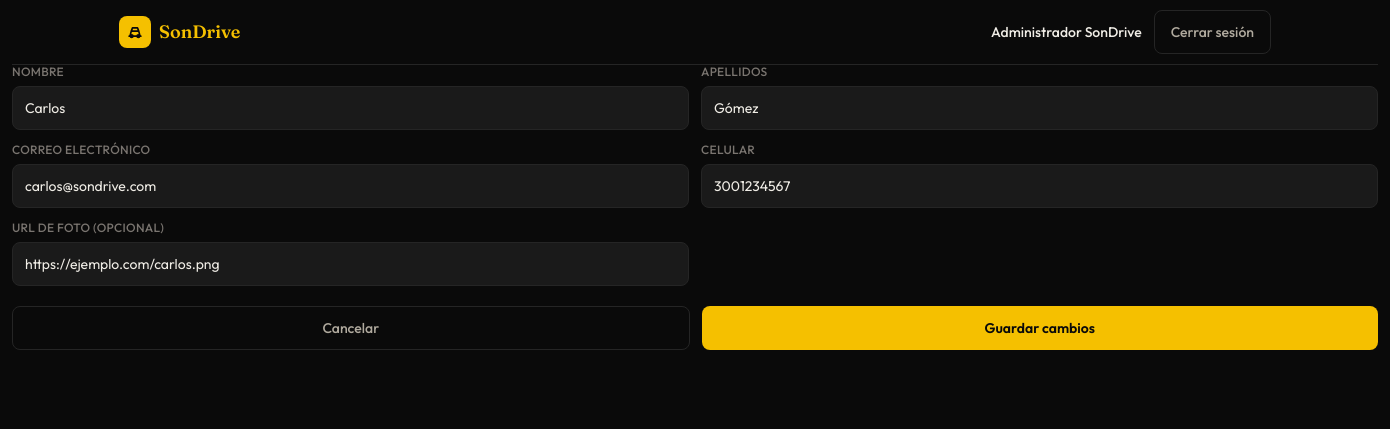
Test case: FormularioEditarConductor › muestra el aviso de conexión y permite reintentar
Replace the text in the field labelled "Nombre" with "Carla" at (350, 108), box [12,86,689,130]
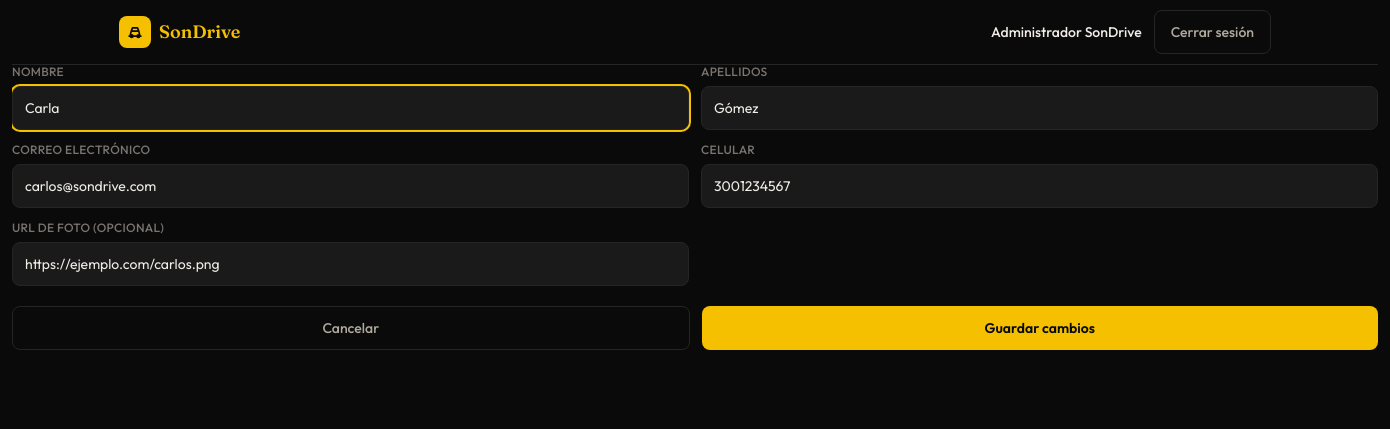
Click the button "Guardar cambios" at (1040, 328), box [702,306,1378,350]
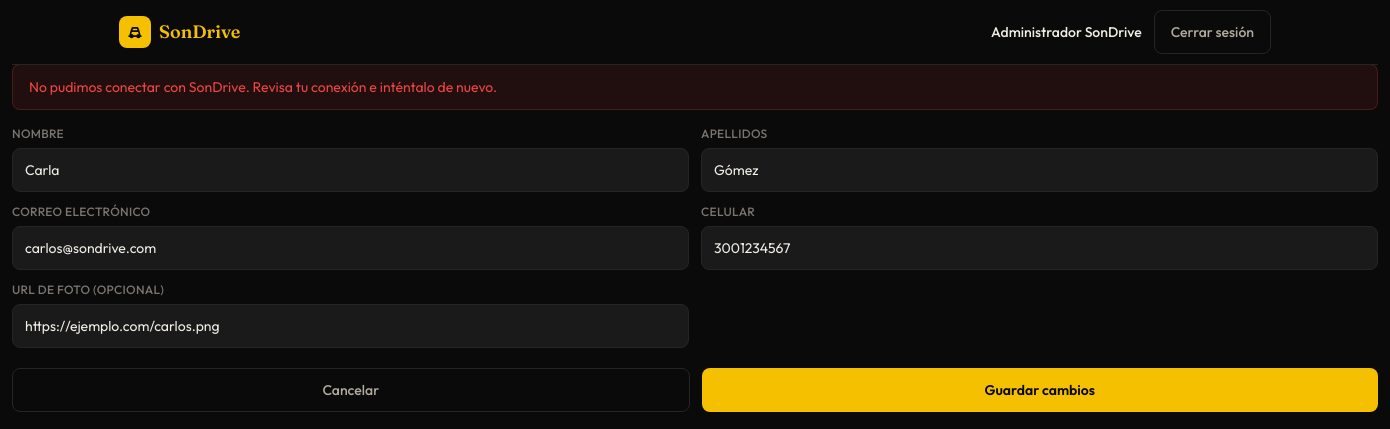
Now the text "No pudimos conectar con SonDrive. Revisa tu conexión e inténtalo de nuevo." is shown, box [29,77,497,97]
Click the button "Guardar cambios" at (1040, 390), box [702,368,1378,412]
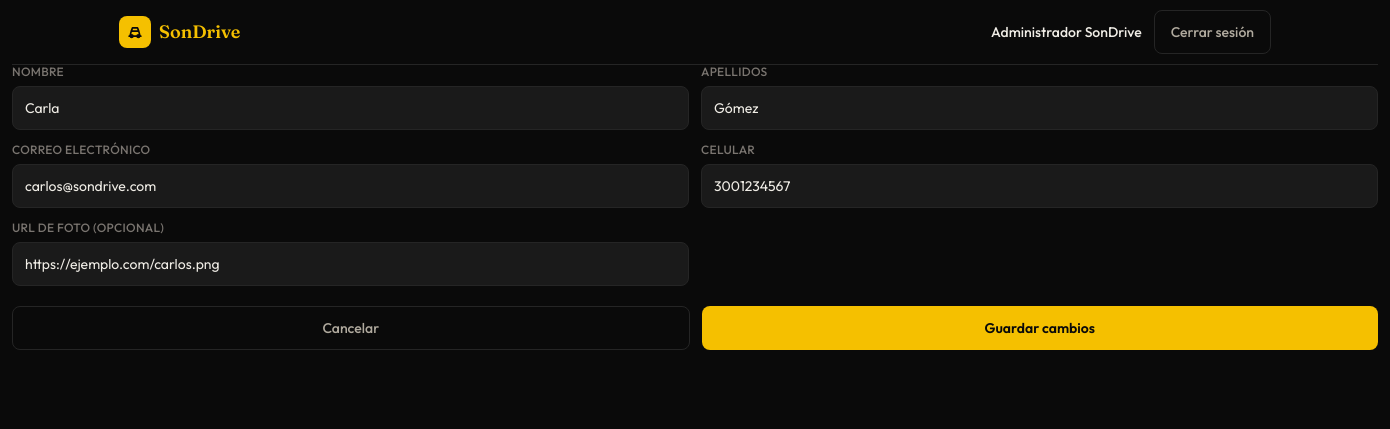
Now the text "No pudimos conectar con SonDrive. Revisa tu conexión e inténtalo de nuevo." is gone
